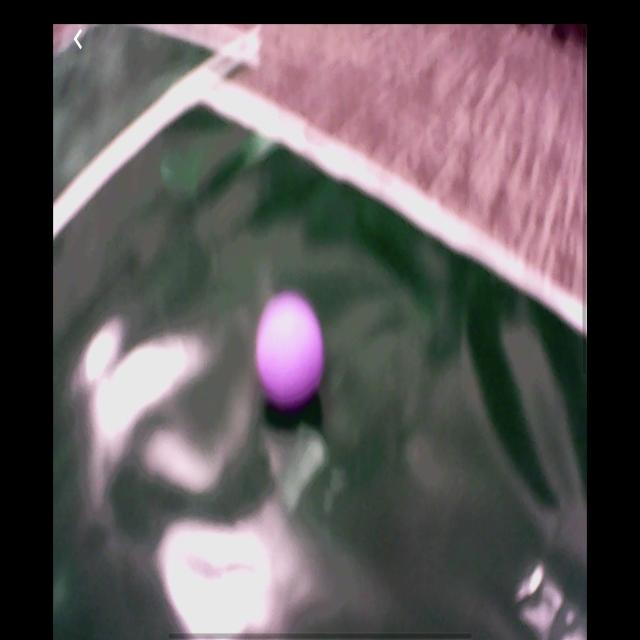ball: (255, 289, 326, 412)
